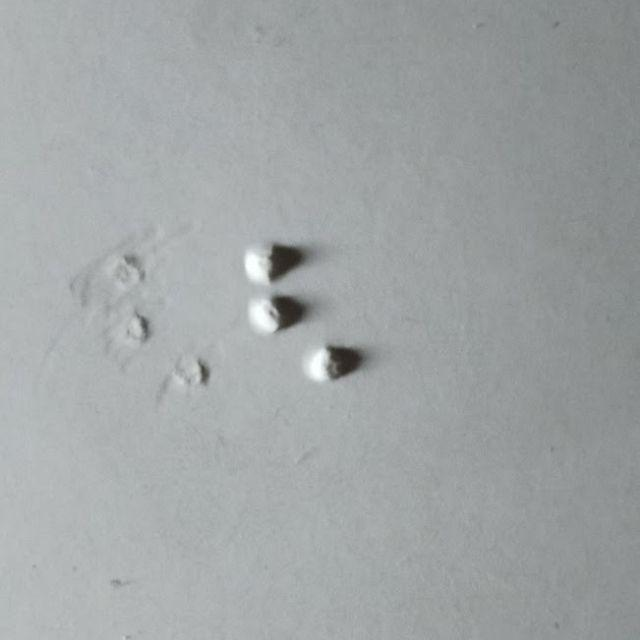ng: (244, 239, 361, 381)
